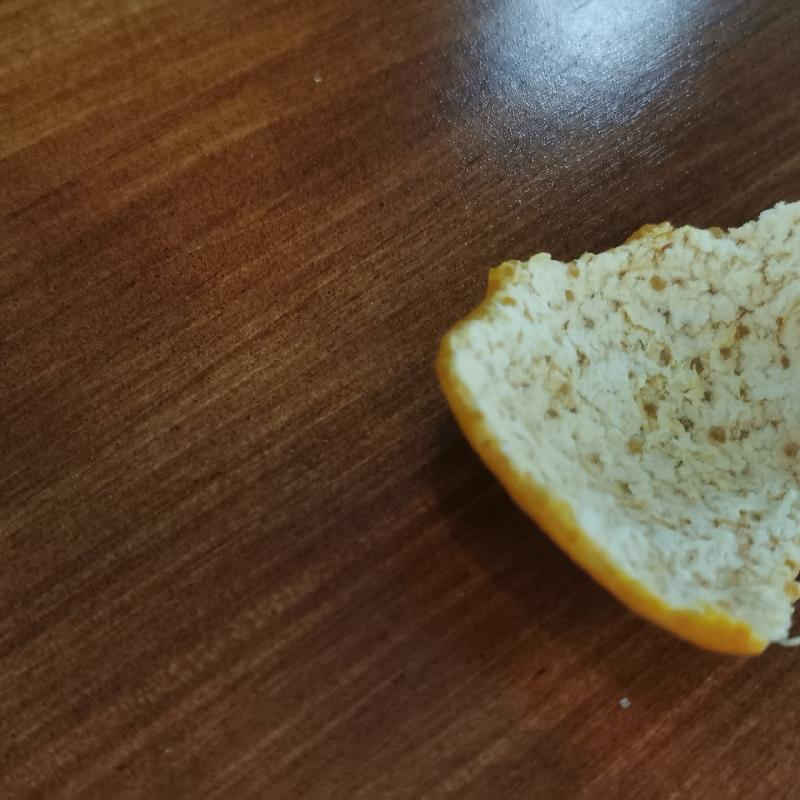orange: (432, 200, 800, 662)
